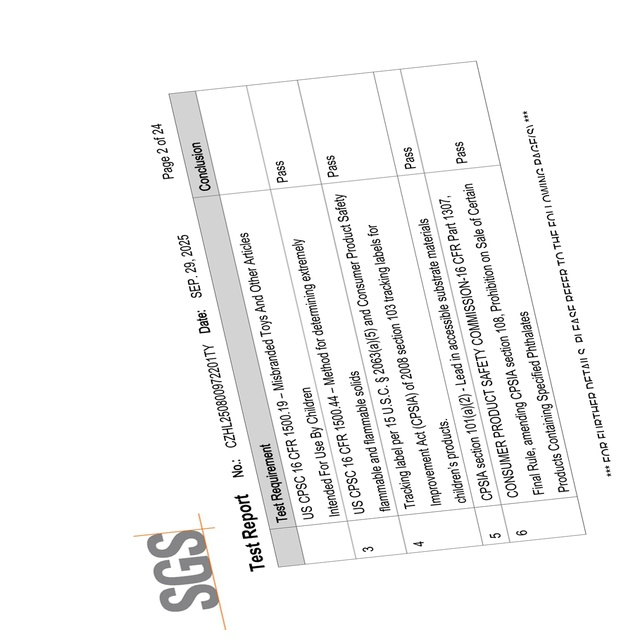sgs: (147, 529, 219, 612)
